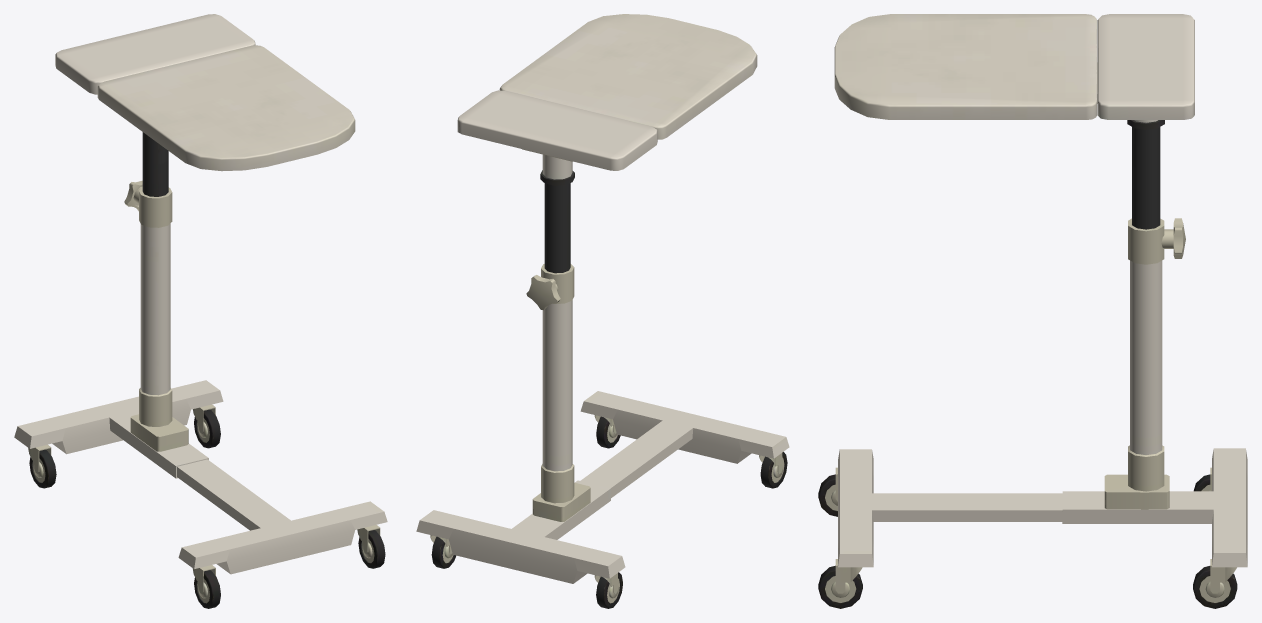
The model's file is adjustable_bedside_table.glb.
The picture shows the model from 3 angles, left to right: view 1: azimuth 30°, elevation 25°; view 2: azimuth 150°, elevation 25°; view 3: azimuth 270°, elevation 25°; orthographic projection. The views are drawn at different scales.
Parts seen in each view (by area): view 1: Table, Base, Base_Extender, Upper; view 2: Table, Base, Upper, Base_Extender; view 3: Table, Base, Upper, Base_Extender.
Part boxes in pixels (<box>): Table: <box>97,45,355,171</box>; Base: <box>14,180,223,488</box>; Base_Extender: <box>177,459,387,608</box>; Upper: <box>55,14,255,196</box>; Table: <box>499,14,757,139</box>; Base: <box>416,264,625,608</box>; Upper: <box>457,90,657,273</box>; Base_Extender: <box>580,391,789,497</box>; Table: <box>834,14,1097,119</box>; Base: <box>1062,218,1247,608</box>; Upper: <box>1097,14,1194,229</box>; Base_Extender: <box>818,449,1062,608</box>.
Size of the model in its own units: 1.73 by 3.78 by 2.93.
1 material, 1 textured.
